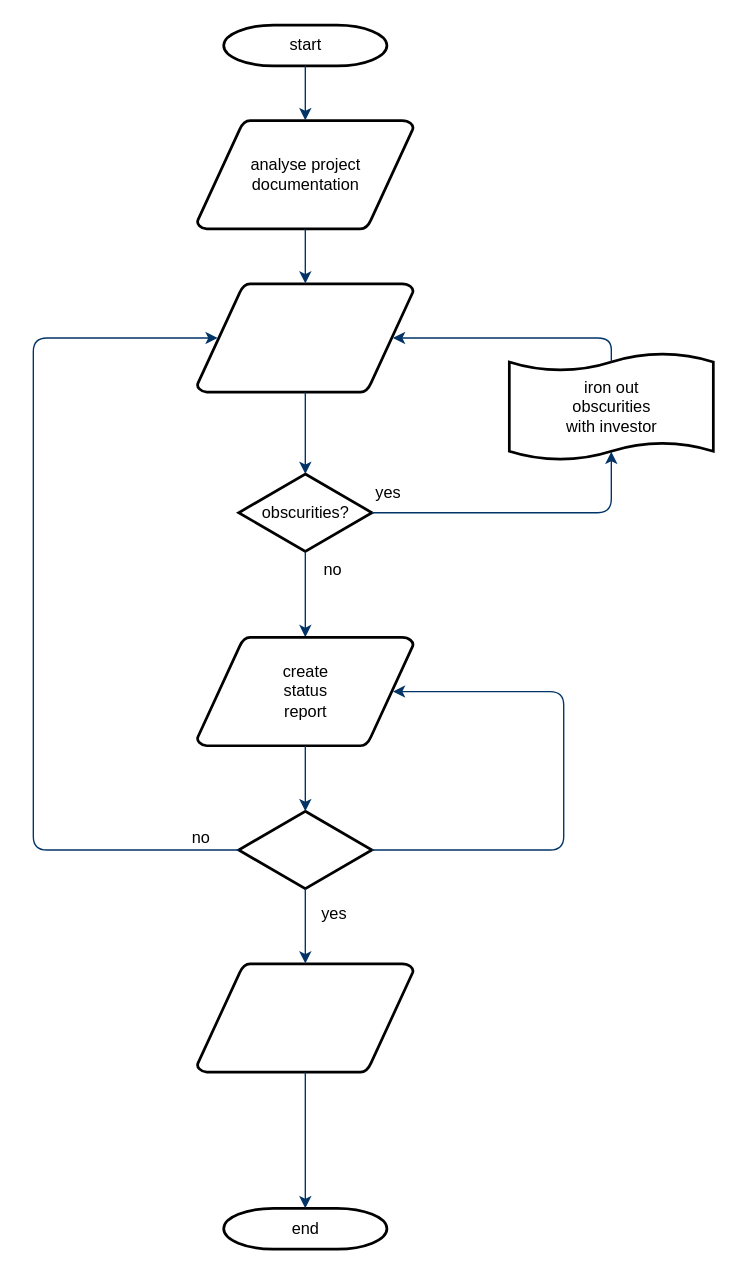
This 738x1273 diagram has some shape labels left out. Each missing label, with the box of its shape:
check for obscurities: (195, 282, 414, 393)
create final report: (195, 962, 414, 1073)
project complete?: (237, 809, 373, 889)
